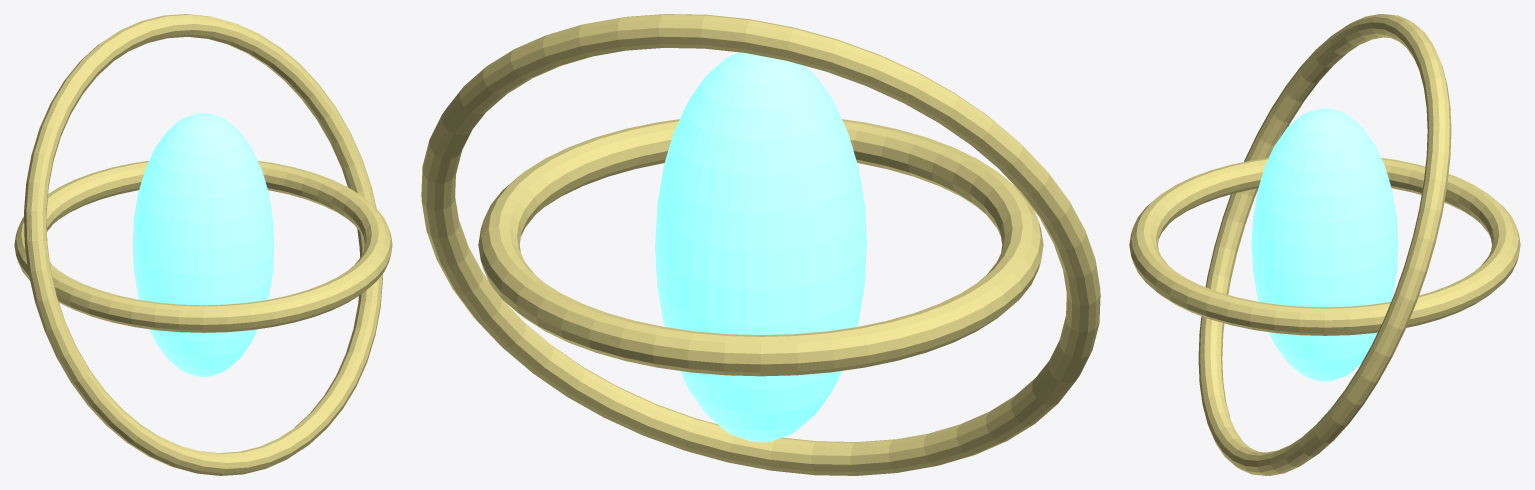
File: pickup_slowdown.glb
3 views of the same model, side by side, from view 1: azimuth 30°, elevation 25°; view 2: azimuth 150°, elevation 25°; view 3: azimuth 270°, elevation 25° (orthographic). The views are drawn at different scales.
Parts seen in each view (by area): view 1: Torus.001, Sphere, Torus; view 2: Torus.001, Sphere, Torus; view 3: Sphere, Torus.001, Torus.
Boxes of the visible parts, <box> form: Torus.001: <box>24,14,382,475</box>; Sphere: <box>132,113,274,376</box>; Torus: <box>14,161,392,332</box>; Torus.001: <box>421,14,1100,475</box>; Sphere: <box>655,52,866,442</box>; Torus: <box>478,119,1043,376</box>; Sphere: <box>1251,108,1398,381</box>; Torus.001: <box>1198,14,1451,475</box>; Torus: <box>1129,158,1520,335</box>.
Size of the model in its own units: 0.9762 by 0.9133 by 0.82.
